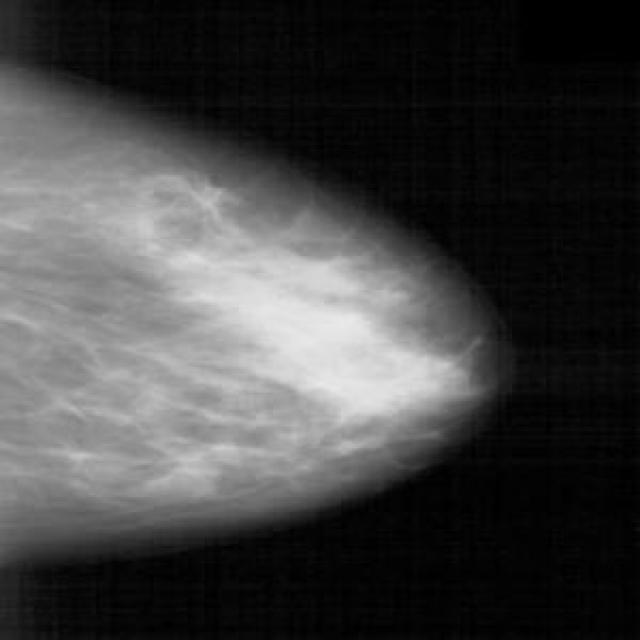tumor: (168, 233, 468, 434)
